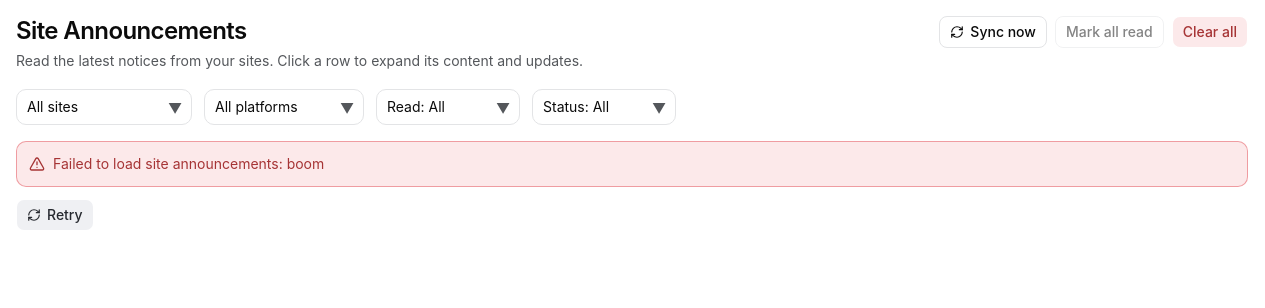
Test: SiteAnnouncementsPage — list rendering › surfaces API failures in an error banner with a working Retry
The width and height of the screenshot is (1265, 308).
Expected: the message reads "Failed to load site announcements: boom", [53,155,324,172]
Click the button "Retry": [55, 215] box [16,199,94,231]
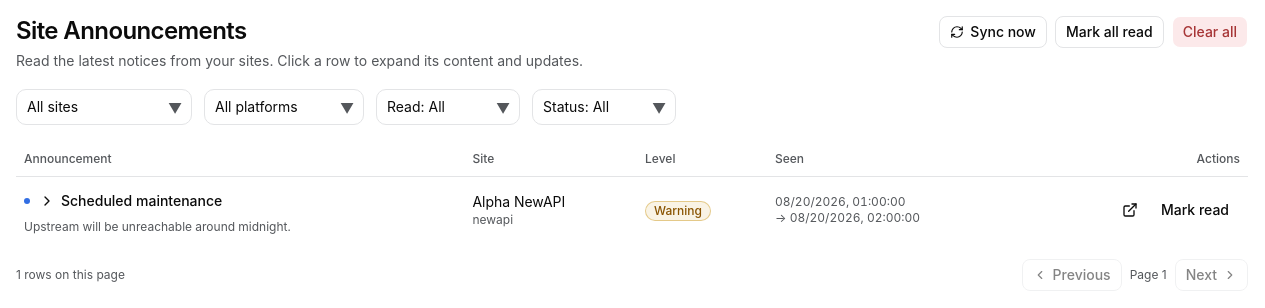
Result: the button "Scheduled maintenance" is shown at [38,185,223,217]
